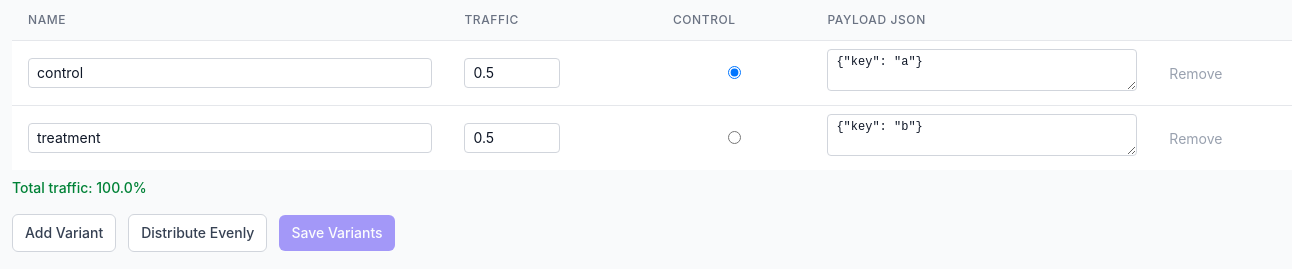
Scenario: VariantForm › switches control via radio button
Expected: the radio button named "Set control as control" is checked, [728,66,741,79]
Click the radio button named "Set treatment as control" at (734, 138), box [728,131,741,144]
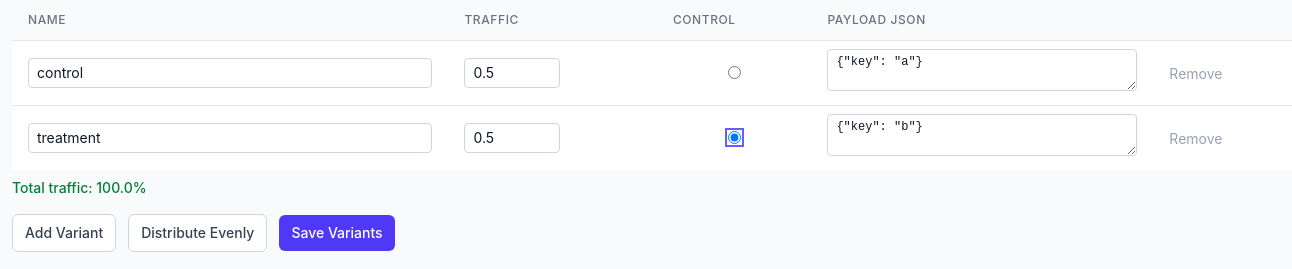
Now the radio button named "Set treatment as control" is checked, box [728,131,741,144]
Now the radio button named "Set control as control" is not checked, box [728,66,741,79]
